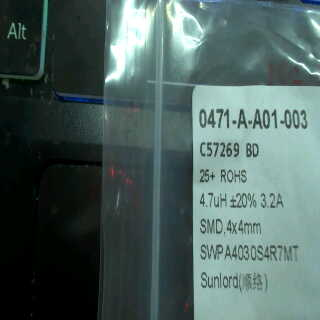4.7uH: (195, 190, 228, 210)
